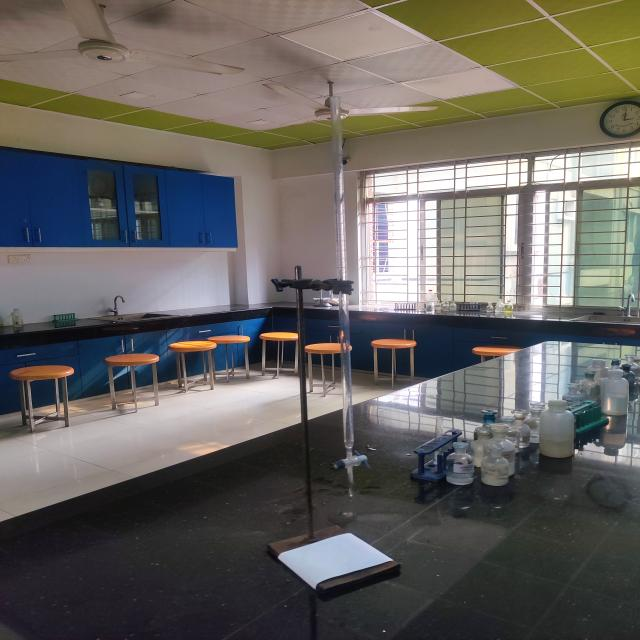Calorimeter: (230, 253, 433, 616)
